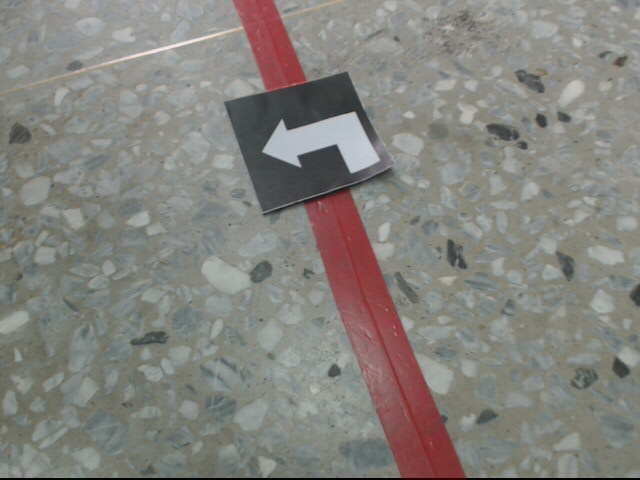left: (223, 69, 394, 218)
